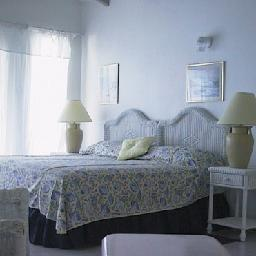Cama: (22, 142, 193, 230)
Ventana: (7, 31, 69, 136)
